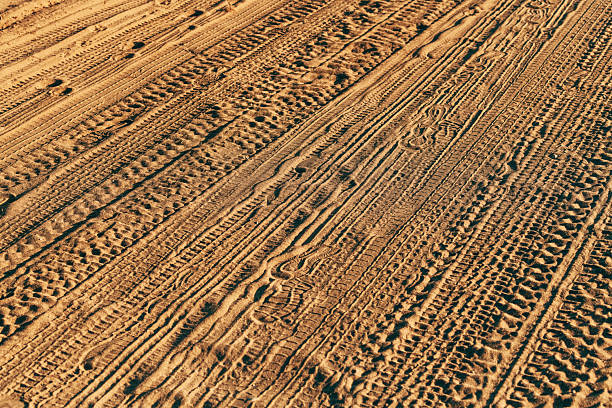vehicle_track: (0, 0, 611, 406), (1, 4, 213, 126), (503, 219, 611, 405), (58, 89, 210, 196), (63, 14, 192, 119), (0, 0, 145, 66), (73, 25, 192, 103), (392, 252, 401, 304), (226, 80, 231, 83), (466, 262, 469, 264), (448, 291, 454, 292)
